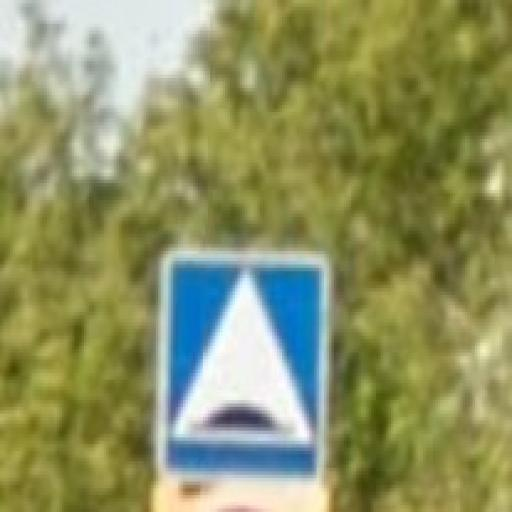traffic_sign: (157, 248, 330, 486)
